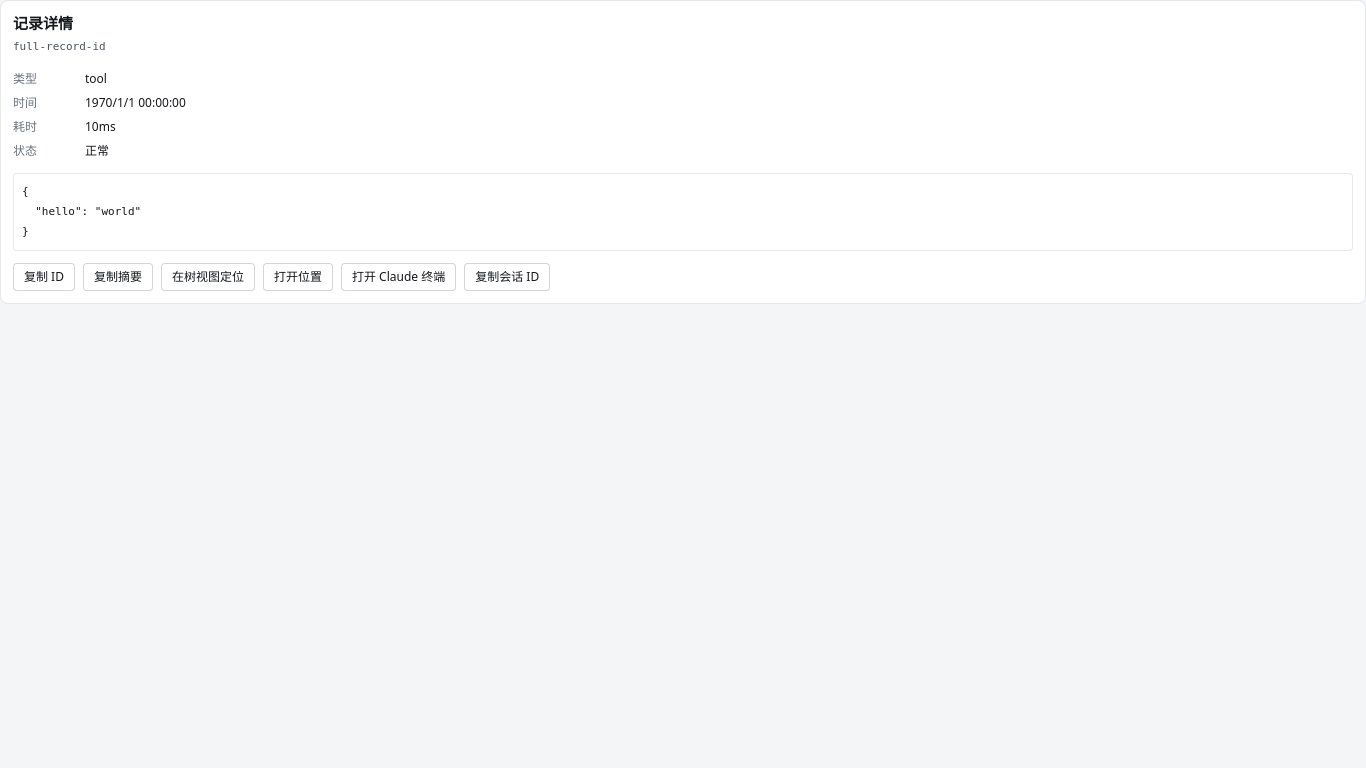
Test: surfaces clipboard and system action failures
Click the button "复制 ID".
click(44, 277)  # box [13,263,75,291]
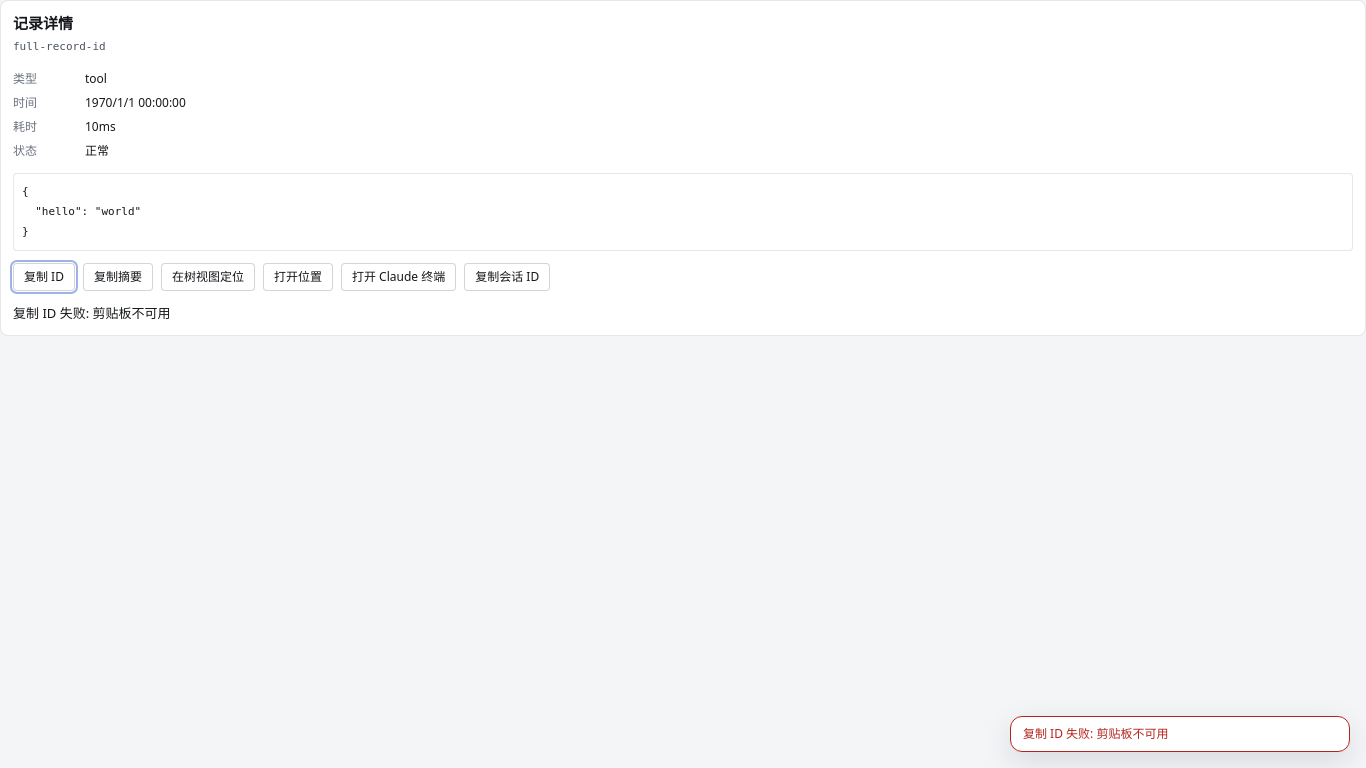
Expected: the message "复制 ID 失败: 剪贴板不可用" below "{ \"hello\": \"world\" }" is shown, [13,304,170,322]
Click the button "复制摘要".
click(118, 277)  # box [83,263,153,291]
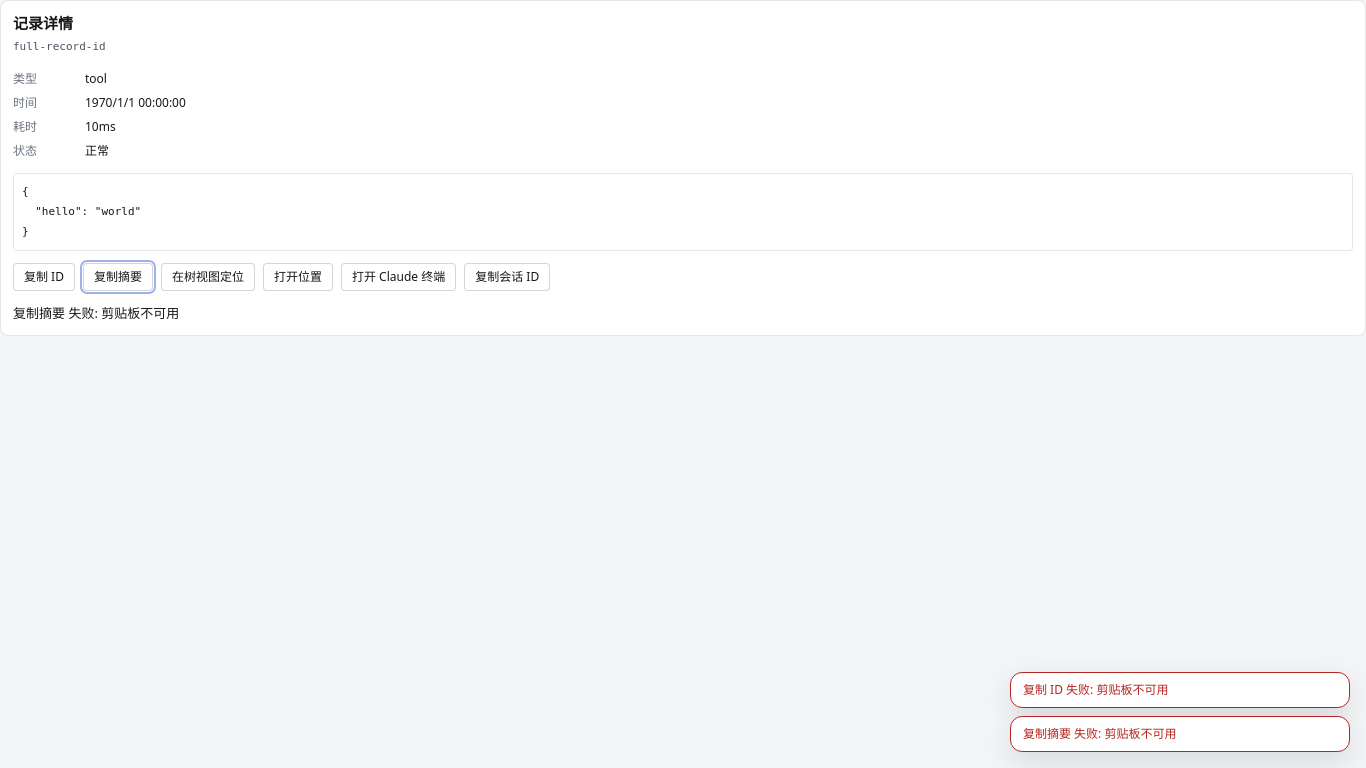
Expected: the message "复制摘要 失败: 剪贴板不可用" is shown, [13,304,179,322]
Click the button "打开位置".
click(298, 277)  # box [263,263,333,291]
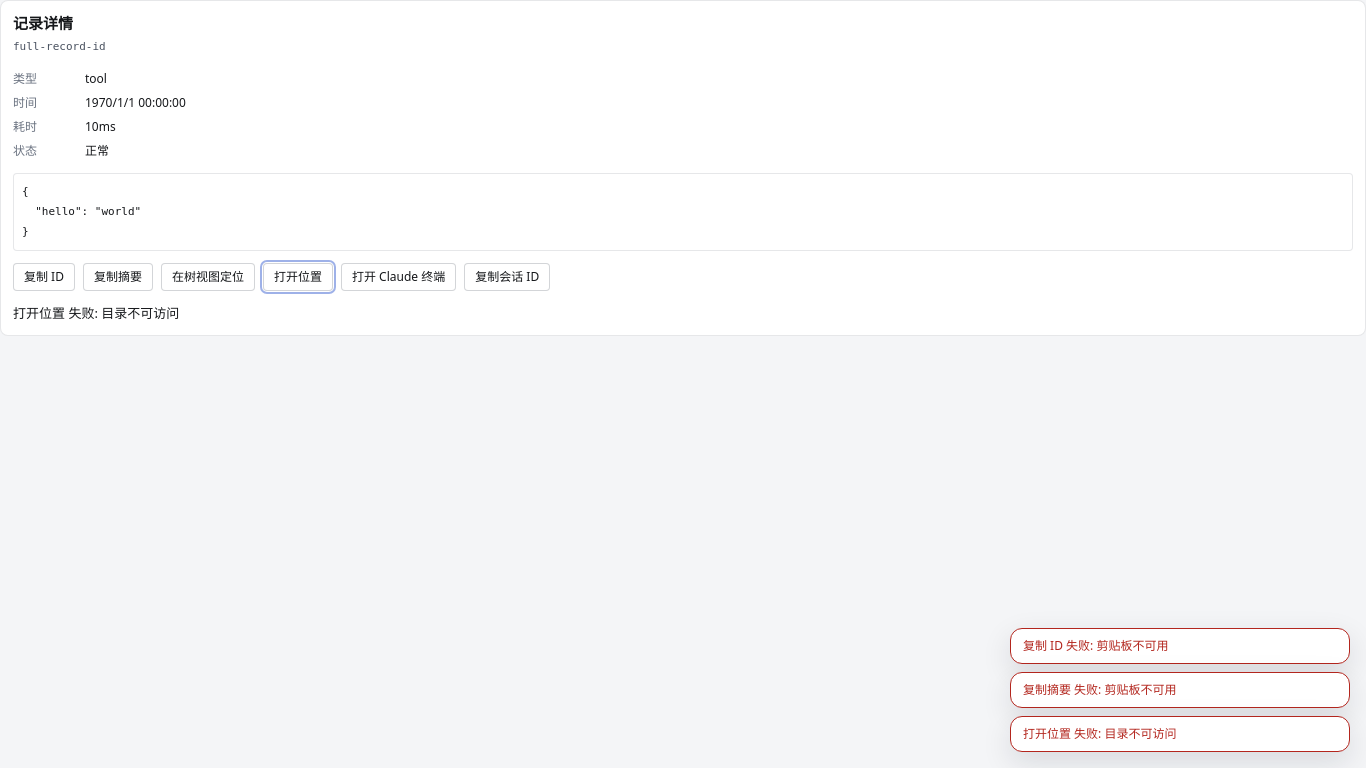
Expected: the message "打开位置 失败: 目录不可访问" is shown, [13,304,179,322]
Click the button "打开 Claude 终端".
click(399, 277)  # box [341,263,456,291]
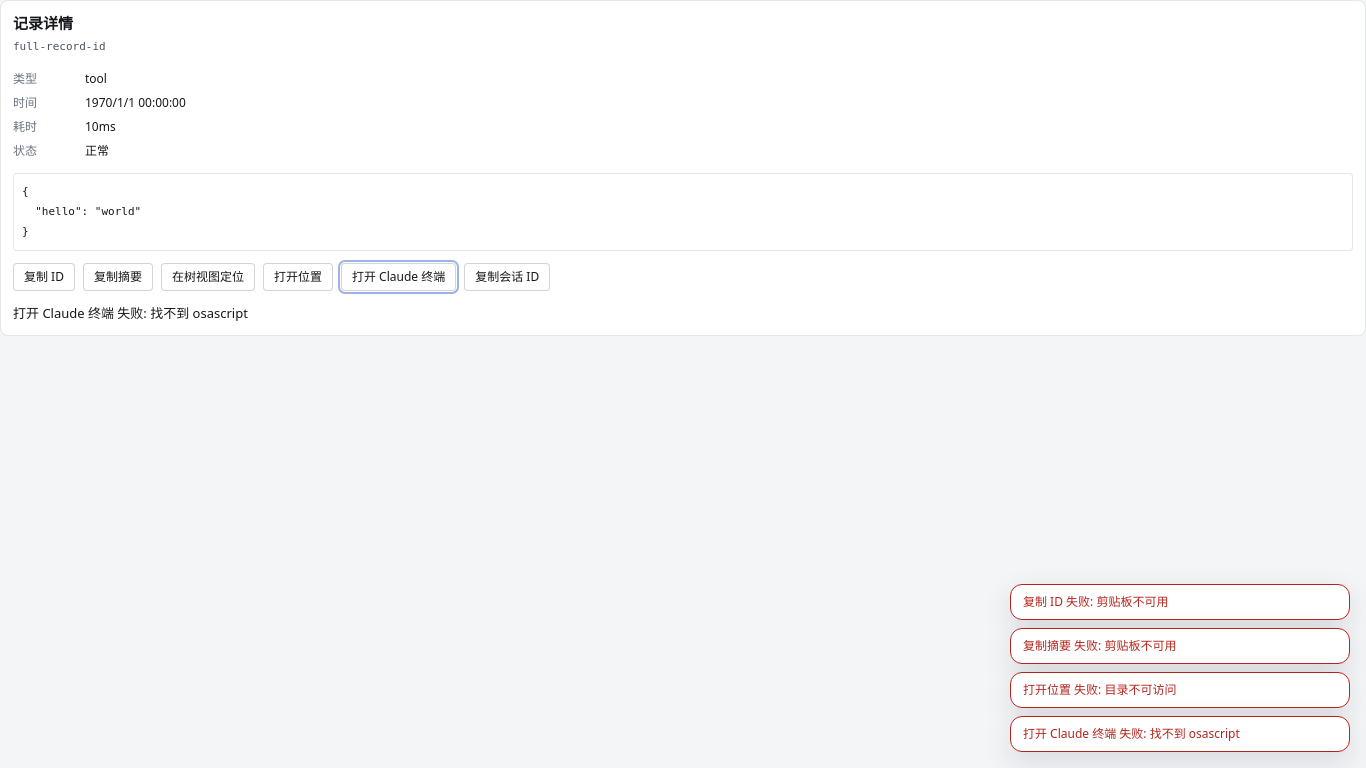
Expected: the message "打开 Claude 终端 失败: 找不到 osascript" is shown, [13,304,248,322]
